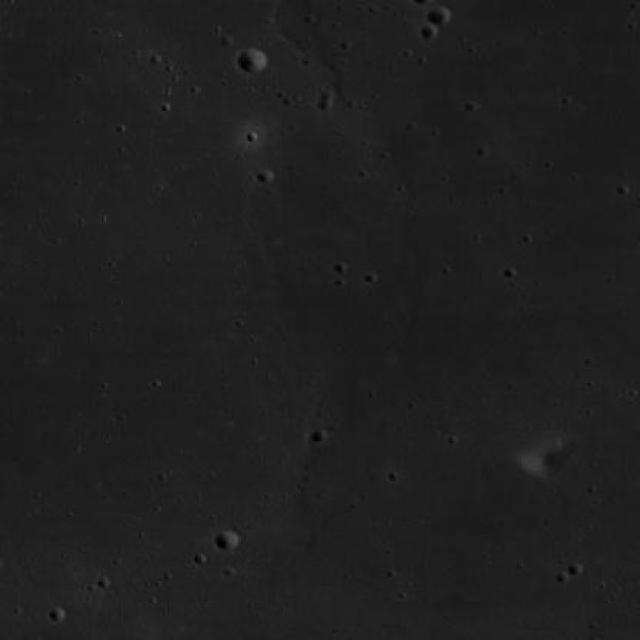crater: (238, 49, 270, 74), (215, 531, 240, 551), (428, 7, 450, 27)
